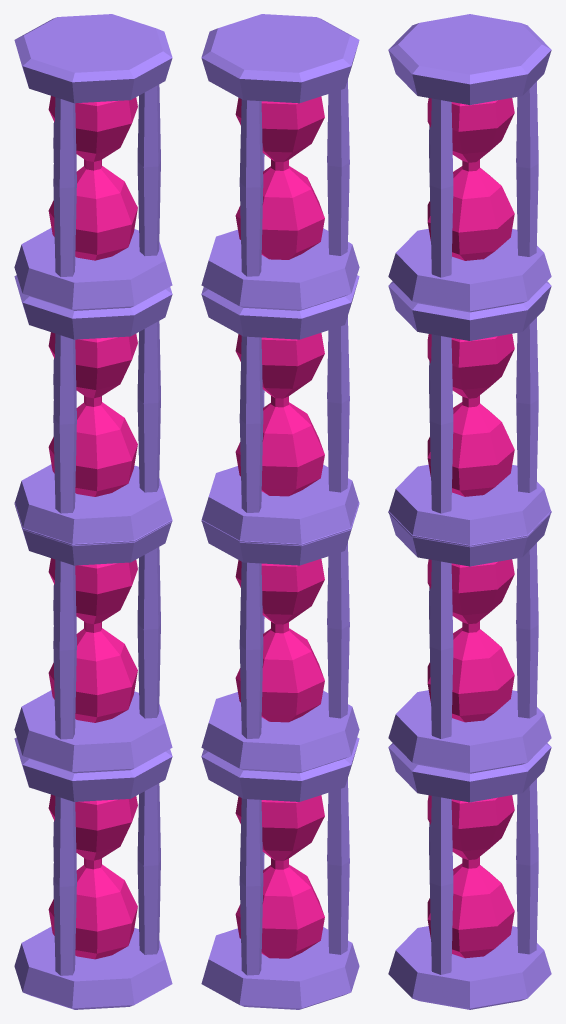
The model's file is 003_Hourglasses.fbx.
The picture shows the model from 3 angles, left to right: view 1: azimuth 30°, elevation 25°; view 2: azimuth 150°, elevation 25°; view 3: azimuth 270°, elevation 25°; orthographic projection.
Visible parts, largest first — view 1: Hourglasses; view 2: Hourglasses; view 3: Hourglasses.
Boxes of the visible parts, x1=… form: Hourglasses: x1=14, y1=14, x2=172, y2=1009; Hourglasses: x1=201, y1=14, x2=359, y2=1009; Hourglasses: x1=388, y1=14, x2=551, y2=1009.
Size of the model in its own units: 16.16 by 102 by 16.16.
